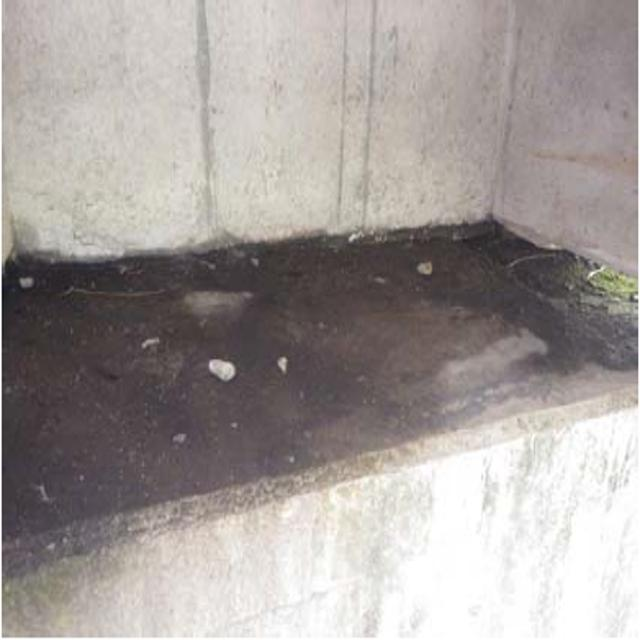leakage: (13, 194, 621, 502)
